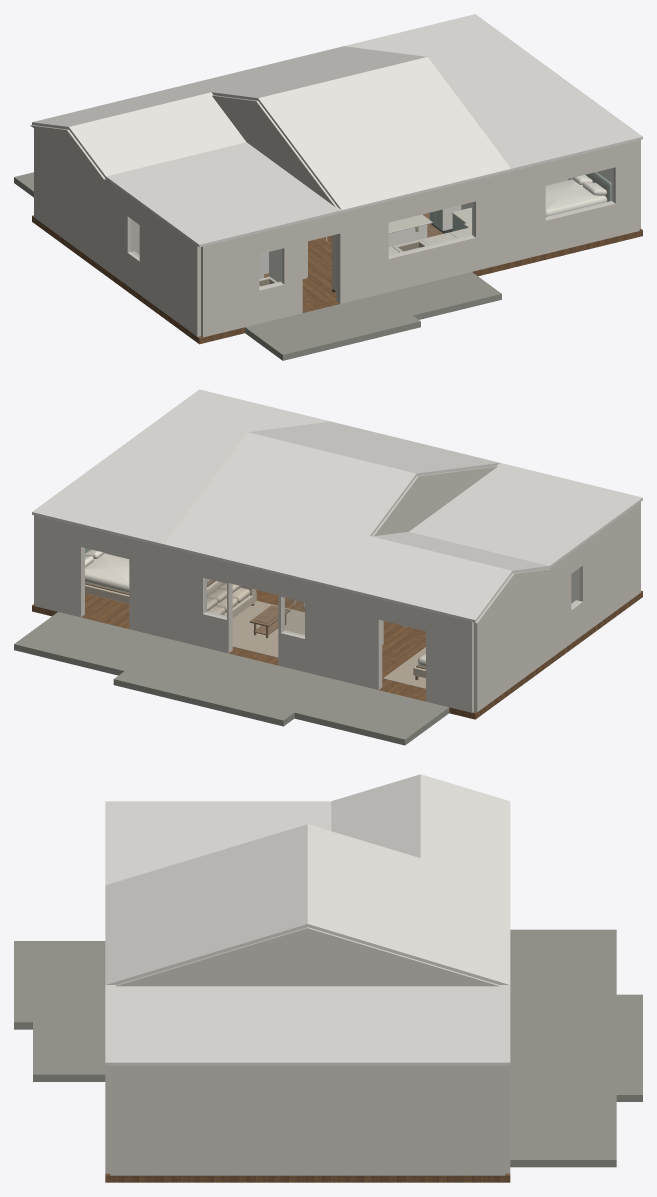
3 renders of one model, top to bottom at view 1: azimuth 30°, elevation 25°; view 2: azimuth 150°, elevation 25°; view 3: azimuth 270°, elevation 25°, orthographic. The views are drawn at different scales.
Visible parts, largest first — view 1: living-kitchen/vault-front, east-wing-flat-ceiling, services-flat-ceiling, ext-left/pier-0, primary/vault-front, ground/slab/1, ext-front/pier-3, ext-left/end, living-kitchen/vault-rear, ext-front/pier-0, ext-front/pier-2, ground/slab/0 (+20 smaller); view 2: living-kitchen/vault-rear, ground/slab/3, east-wing-flat-ceiling, services-flat-ceiling, primary/vault-rear, ext-left/pier-0, ext-rear/pier-1, ext-rear/pier-4, ground/slab/0, living-kitchen/vault-front, ext-left/end, ext-rear/end (+19 smaller); view 3: ext-right/end, east-wing-flat-ceiling, ground/slab/3, living-kitchen/vault-rear, living-kitchen/vault-front, living-kitchen/gable-right, services-flat-ceiling, ground/slab/1, primary/vault-rear, primary/vault-front, ground/slab/0, ground/slab/4 (+3 smaller).
Boxes of the visible parts, left/top/right/bottom form: living-kitchen/vault-front: left=258, top=57, right=511, bottom=212; east-wing-flat-ceiling: left=344, top=14, right=642, bottom=171; services-flat-ceiling: left=106, top=142, right=341, bottom=247; ext-left/pier-0: left=34, top=128, right=134, bottom=285; primary/vault-front: left=69, top=92, right=246, bottom=178; ground/slab/1: left=245, top=272, right=501, bottom=354; ext-front/pier-3: left=472, top=163, right=545, bottom=270; ext-left/end: left=139, top=204, right=200, bottom=336; living-kitchen/vault-rear: left=174, top=46, right=426, bottom=100; ext-front/pier-0: left=201, top=233, right=259, bottom=337; ext-front/pier-2: left=336, top=201, right=388, bottom=303; ground/slab/0: left=32, top=212, right=642, bottom=344; living-kitchen/vault-rear: left=163, top=432, right=416, bottom=587; ground/slab/3: left=14, top=612, right=449, bottom=745; east-wing-flat-ceiling: left=32, top=389, right=330, bottom=546; services-flat-ceiling: left=409, top=463, right=642, bottom=567; primary/vault-rear: left=333, top=536, right=512, bottom=622; ext-left/pier-0: left=474, top=553, right=571, bottom=712; ext-rear/pier-1: left=305, top=581, right=382, bottom=689; ext-rear/pier-4: left=129, top=538, right=206, bottom=646; ground/slab/0: left=32, top=590, right=642, bottom=719; living-kitchen/vault-front: left=248, top=421, right=499, bottom=475; ext-left/end: left=576, top=502, right=640, bottom=634; ext-rear/end: left=35, top=515, right=84, bottom=617; ext-right/end: left=110, top=1066, right=505, bottom=1175; east-wing-flat-ceiling: left=105, top=985, right=510, bottom=1065; ground/slab/3: left=510, top=929, right=616, bottom=1167; living-kitchen/vault-rear: left=307, top=824, right=510, bottom=984; living-kitchen/vault-front: left=105, top=824, right=307, bottom=984; living-kitchen/gable-right: left=116, top=927, right=499, bottom=986; services-flat-ceiling: left=105, top=801, right=331, bottom=884; ground/slab/1: left=33, top=941, right=105, bottom=1081; primary/vault-rear: left=420, top=774, right=510, bottom=884; primary/vault-front: left=331, top=774, right=420, bottom=857; ground/slab/0: left=105, top=1173, right=510, bottom=1182; ground/slab/4: left=616, top=994, right=642, bottom=1101.
Size of the model in its own units: 14.08 by 4.53 by 14.26.
Materials: 16 (2 with a texture image).
